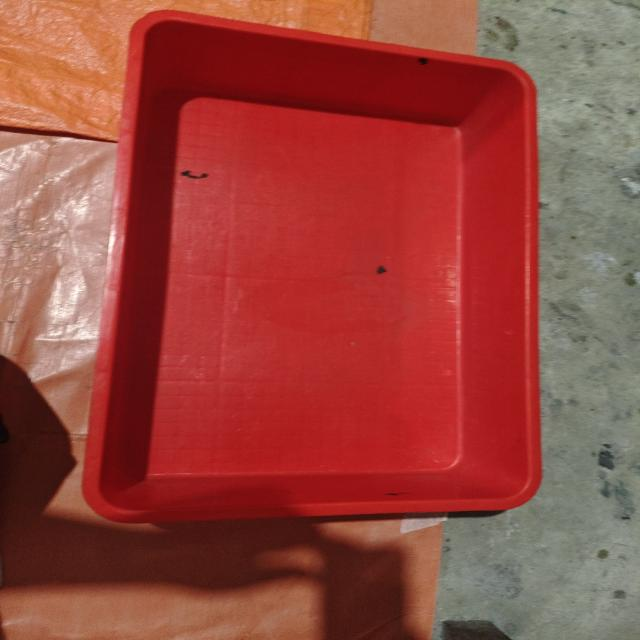red plastic box: (80, 9, 542, 524)
